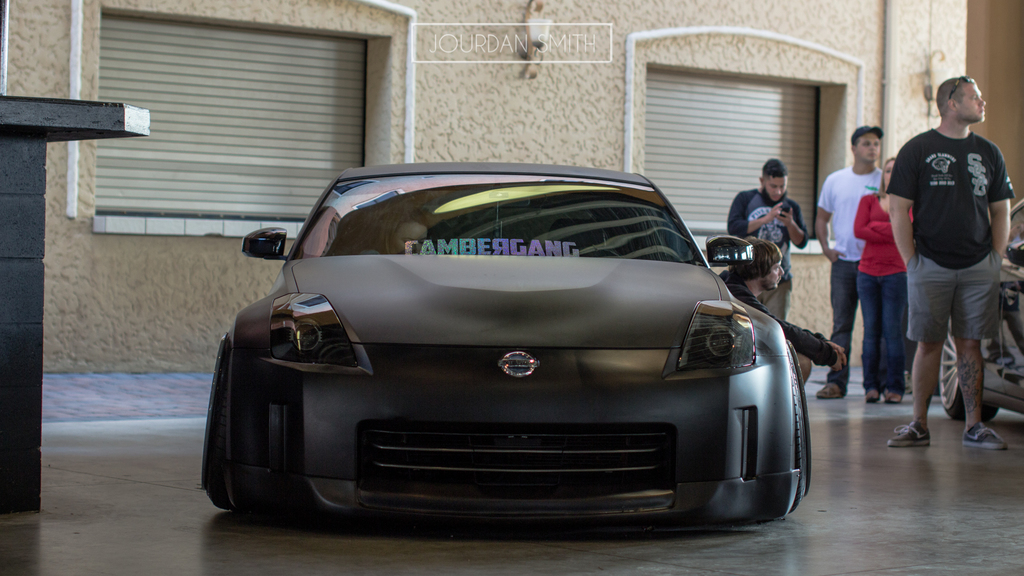Car: (199, 163, 813, 534), (936, 197, 1023, 421)
